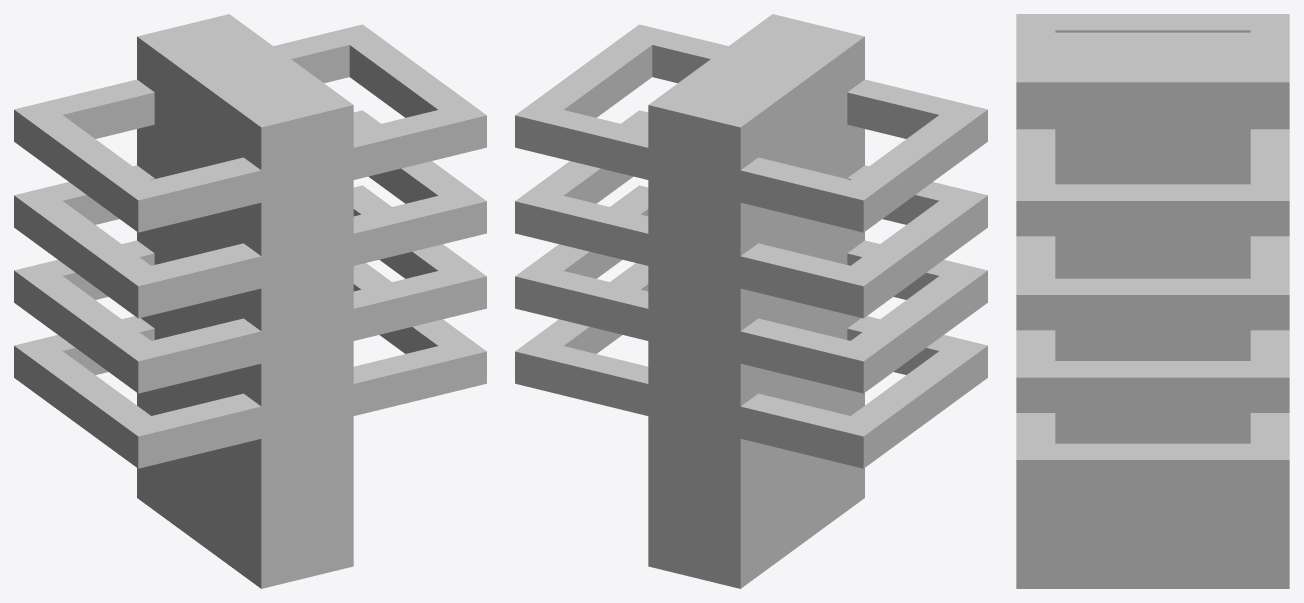
File: skeleton-1.obj
The picture shows the model from 3 angles, left to right: view 1: azimuth 30°, elevation 25°; view 2: azimuth 150°, elevation 25°; view 3: azimuth 270°, elevation 25°; orthographic projection. The views are drawn at different scales.
Bounding box in the file's own units: 3.4 × 4.3 × 2.1.
1 material, 1 textured.
